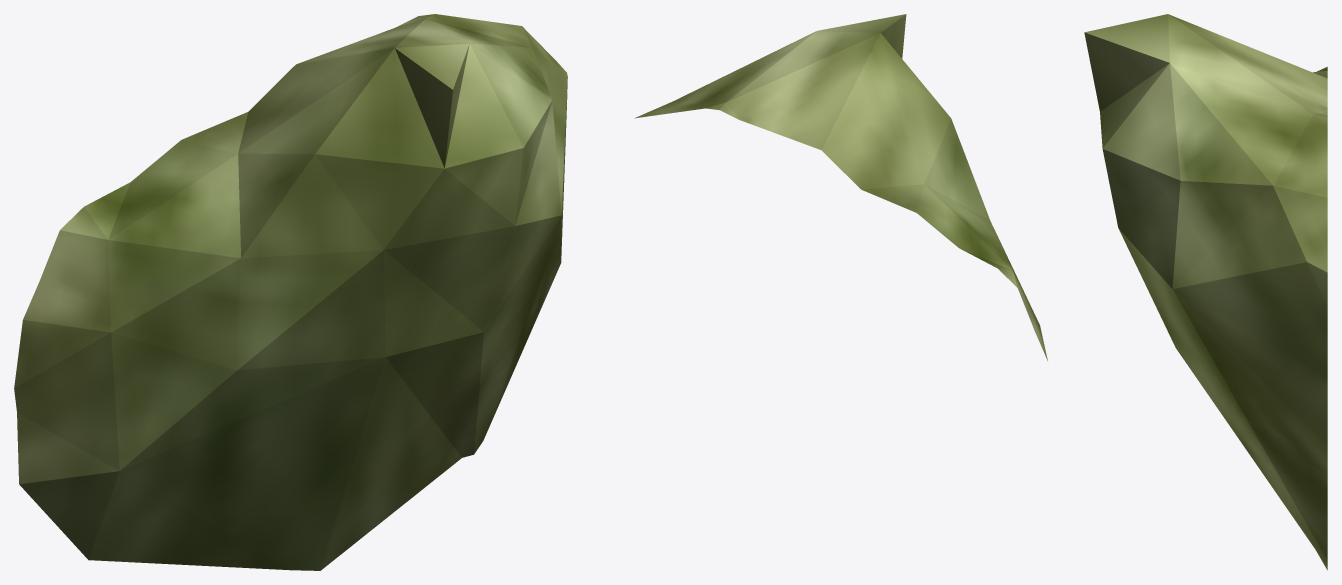
3 views of the same model, side by side, from view 1: azimuth 30°, elevation 25°; view 2: azimuth 150°, elevation 25°; view 3: azimuth 270°, elevation 25° (orthographic). The views are drawn at different scales.
Bounding box in the file's own units: 1.06 × 1.08 × 0.4317.
Materials: 1 (1 with a texture image).
